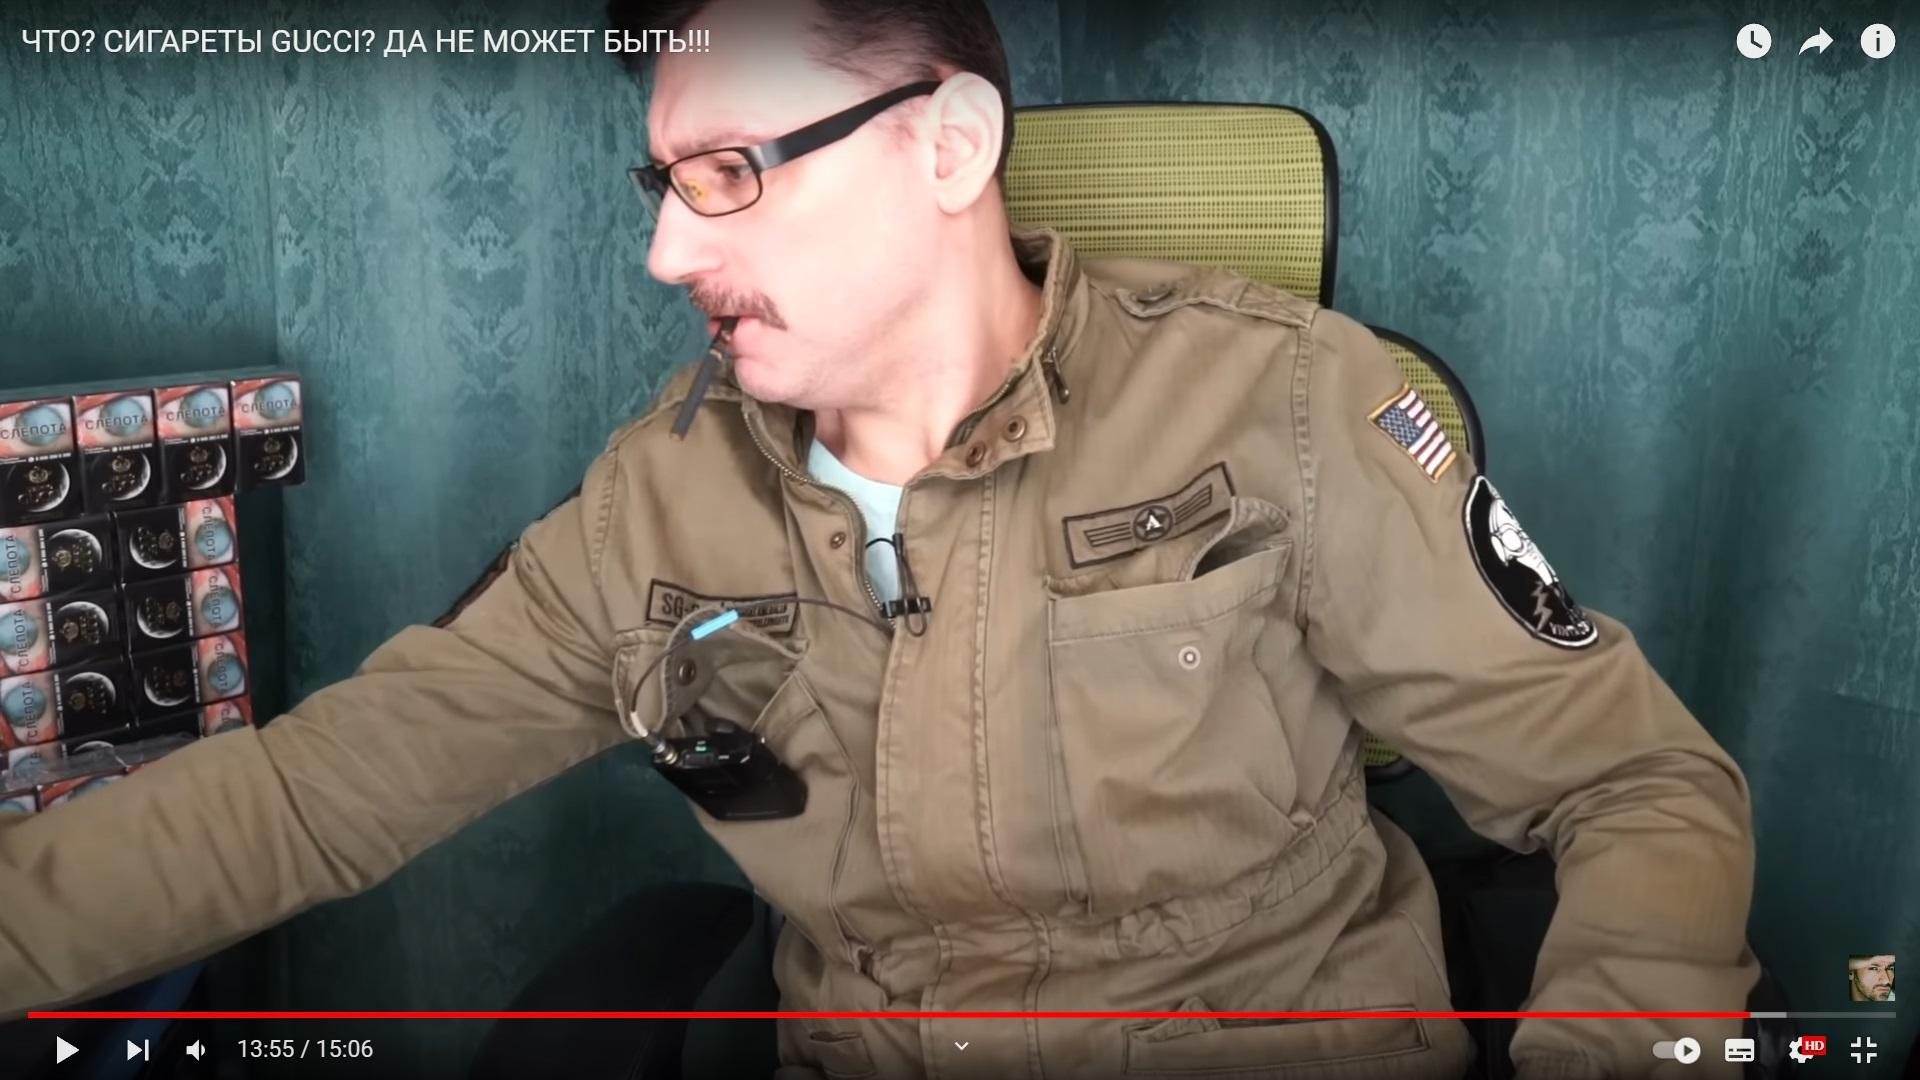cigarette: (669, 316, 741, 442)
